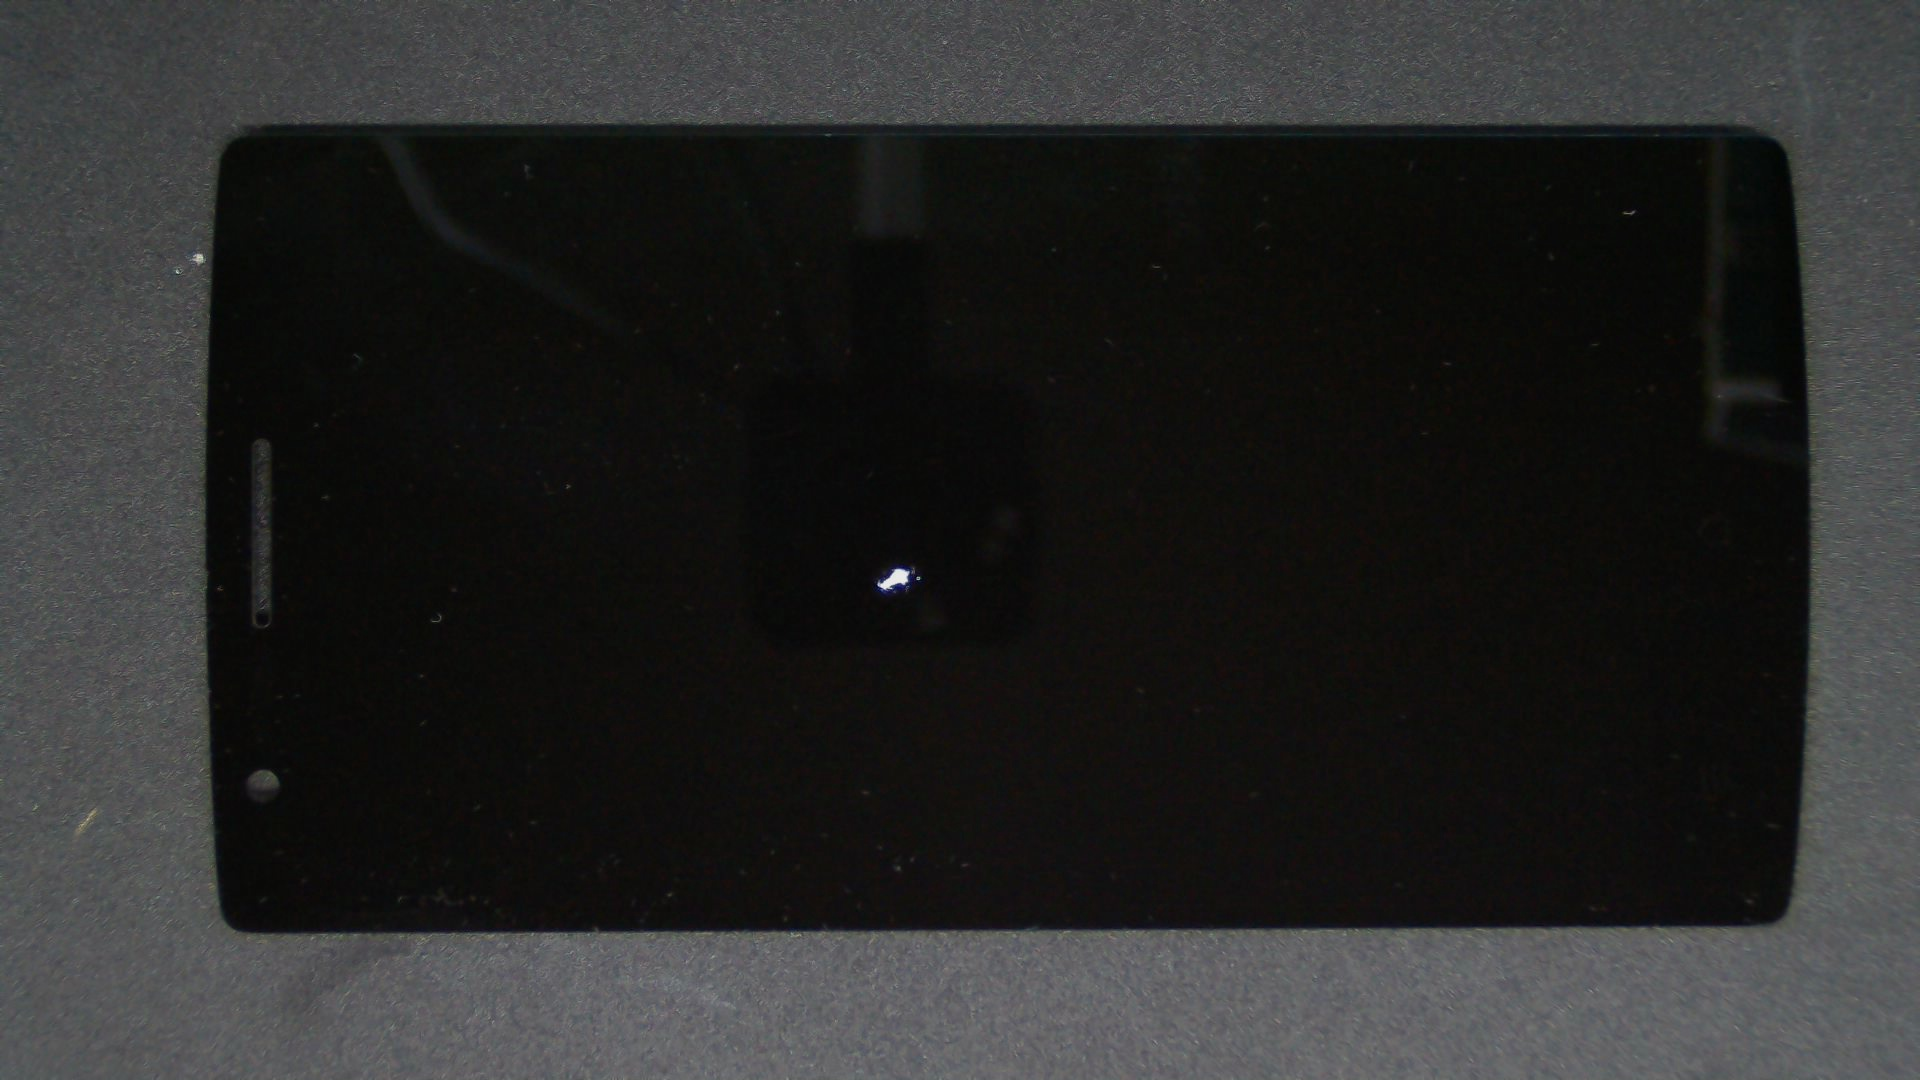oil: (448, 282, 1342, 849)
